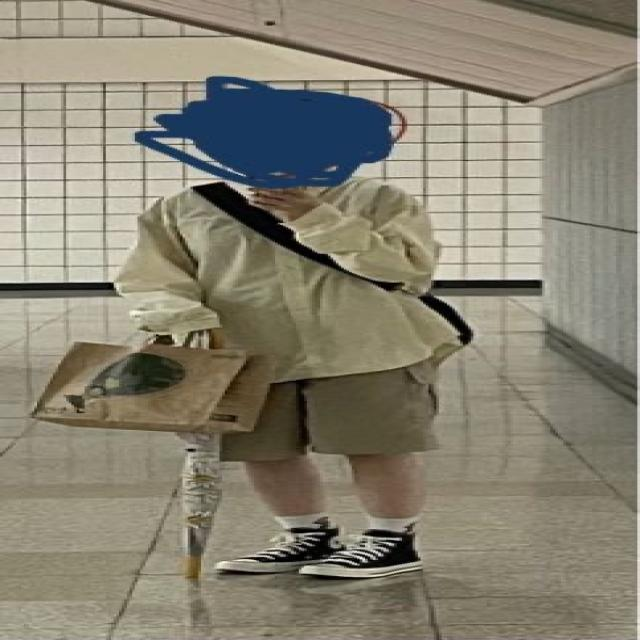shirt: (111, 167, 471, 387)
shortpants: (200, 354, 450, 464)
